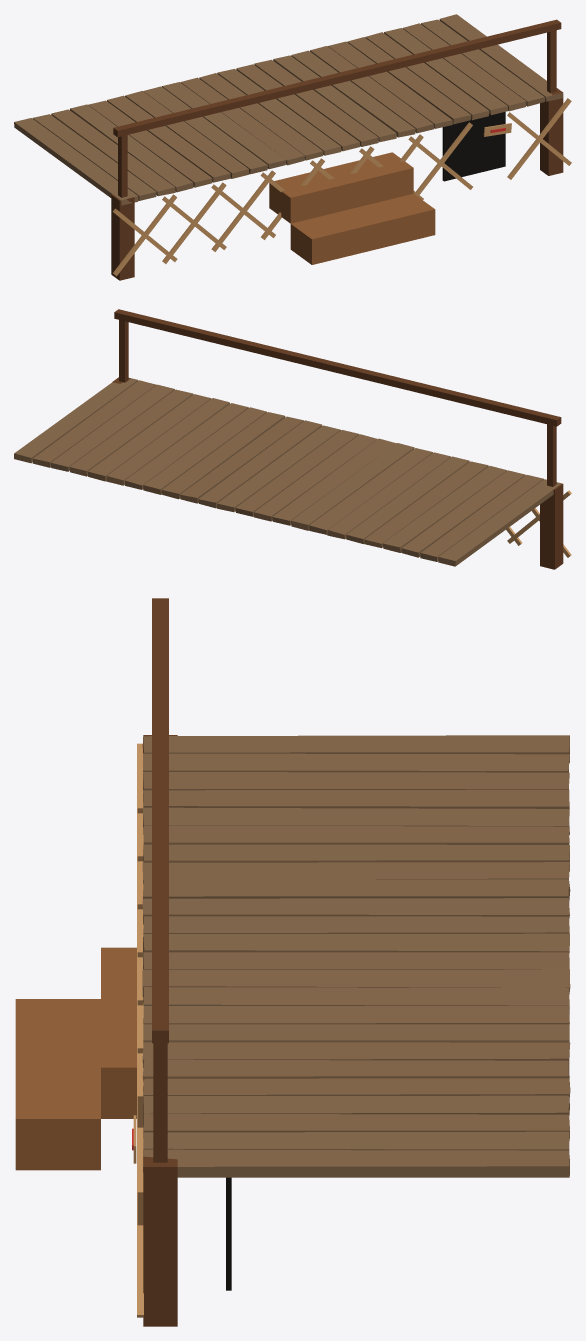
Rendered from porch.fbx.
3 views of the same model, one above another, from view 1: azimuth 30°, elevation 25°; view 2: azimuth 150°, elevation 25°; view 3: azimuth 270°, elevation 25° (orthographic). The views are drawn at different scales.
Visible parts, largest first — view 1: porch; view 2: porch; view 3: porch.
Part boxes in pixels (bbox=[...]): porch: bbox=[14, 14, 571, 280]; porch: bbox=[14, 309, 571, 569]; porch: bbox=[15, 598, 570, 1326].
Bounding box in the file's own units: 14.85 × 4.6 × 7.81.
